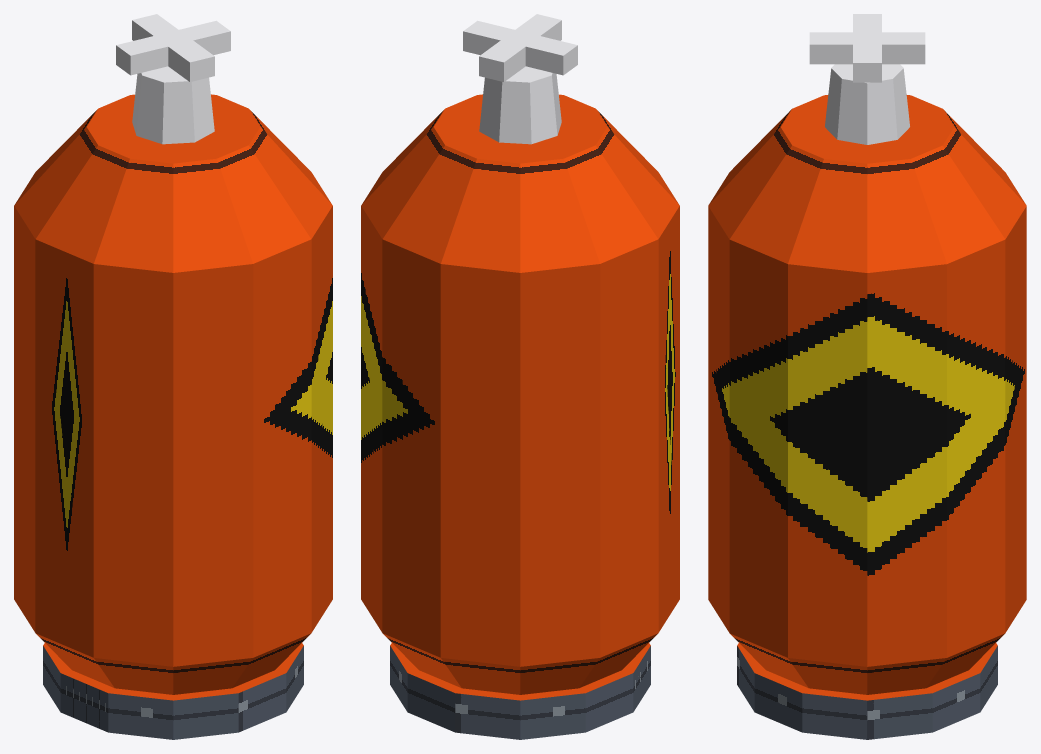
The model's file is rcs_tank.glb.
The picture shows the model from 3 angles, left to right: view 1: azimuth 30°, elevation 25°; view 2: azimuth 150°, elevation 25°; view 3: azimuth 270°, elevation 25°; orthographic projection.
Parts seen in each view (by area): view 1: rcs_tank; view 2: rcs_tank; view 3: rcs_tank.
Part boxes in pixels (x1,y1,x2,y2): rcs_tank: (14, 14, 332, 739); rcs_tank: (361, 14, 679, 739); rcs_tank: (708, 14, 1026, 739).
Bounding box in the file's own units: 0.22 × 0.4925 × 0.22.
3 materials, 2 textured.
